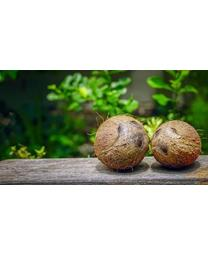coconut: (94, 114, 150, 171), (149, 118, 202, 169)
